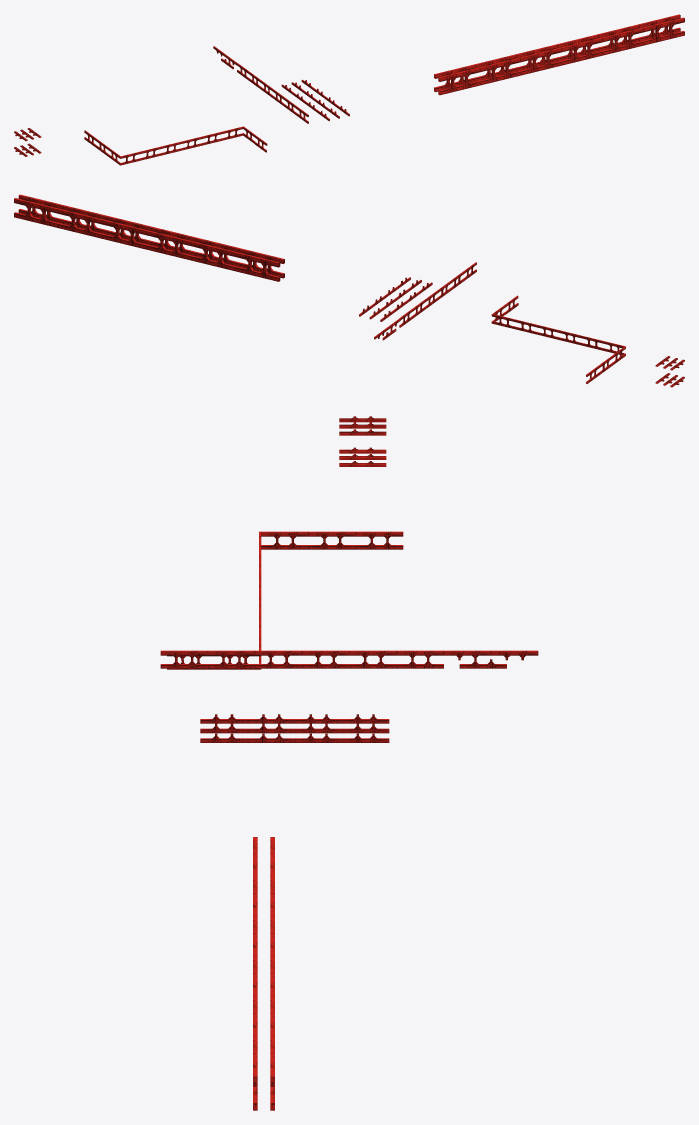
Rendered from Blame_Hall_Beams.fbx.
The picture shows the model from 3 angles, top to bottom: view 1: azimuth 30°, elevation 25°; view 2: azimuth 150°, elevation 25°; view 3: azimuth 270°, elevation 25°; orthographic projection. The views are drawn at different scales.
Parts seen in each view (by area): view 1: mod_beam__59_; view 2: mod_beam__59_; view 3: mod_beam__59_.
Boxes of the visible parts, <box> form: mod_beam__59_: <box>14,14,684,165</box>; mod_beam__59_: <box>14,194,684,387</box>; mod_beam__59_: <box>160,416,538,1110</box>.
Size of the model in its own units: 46881 by 2456 by 11986.
1 material, 1 textured.
